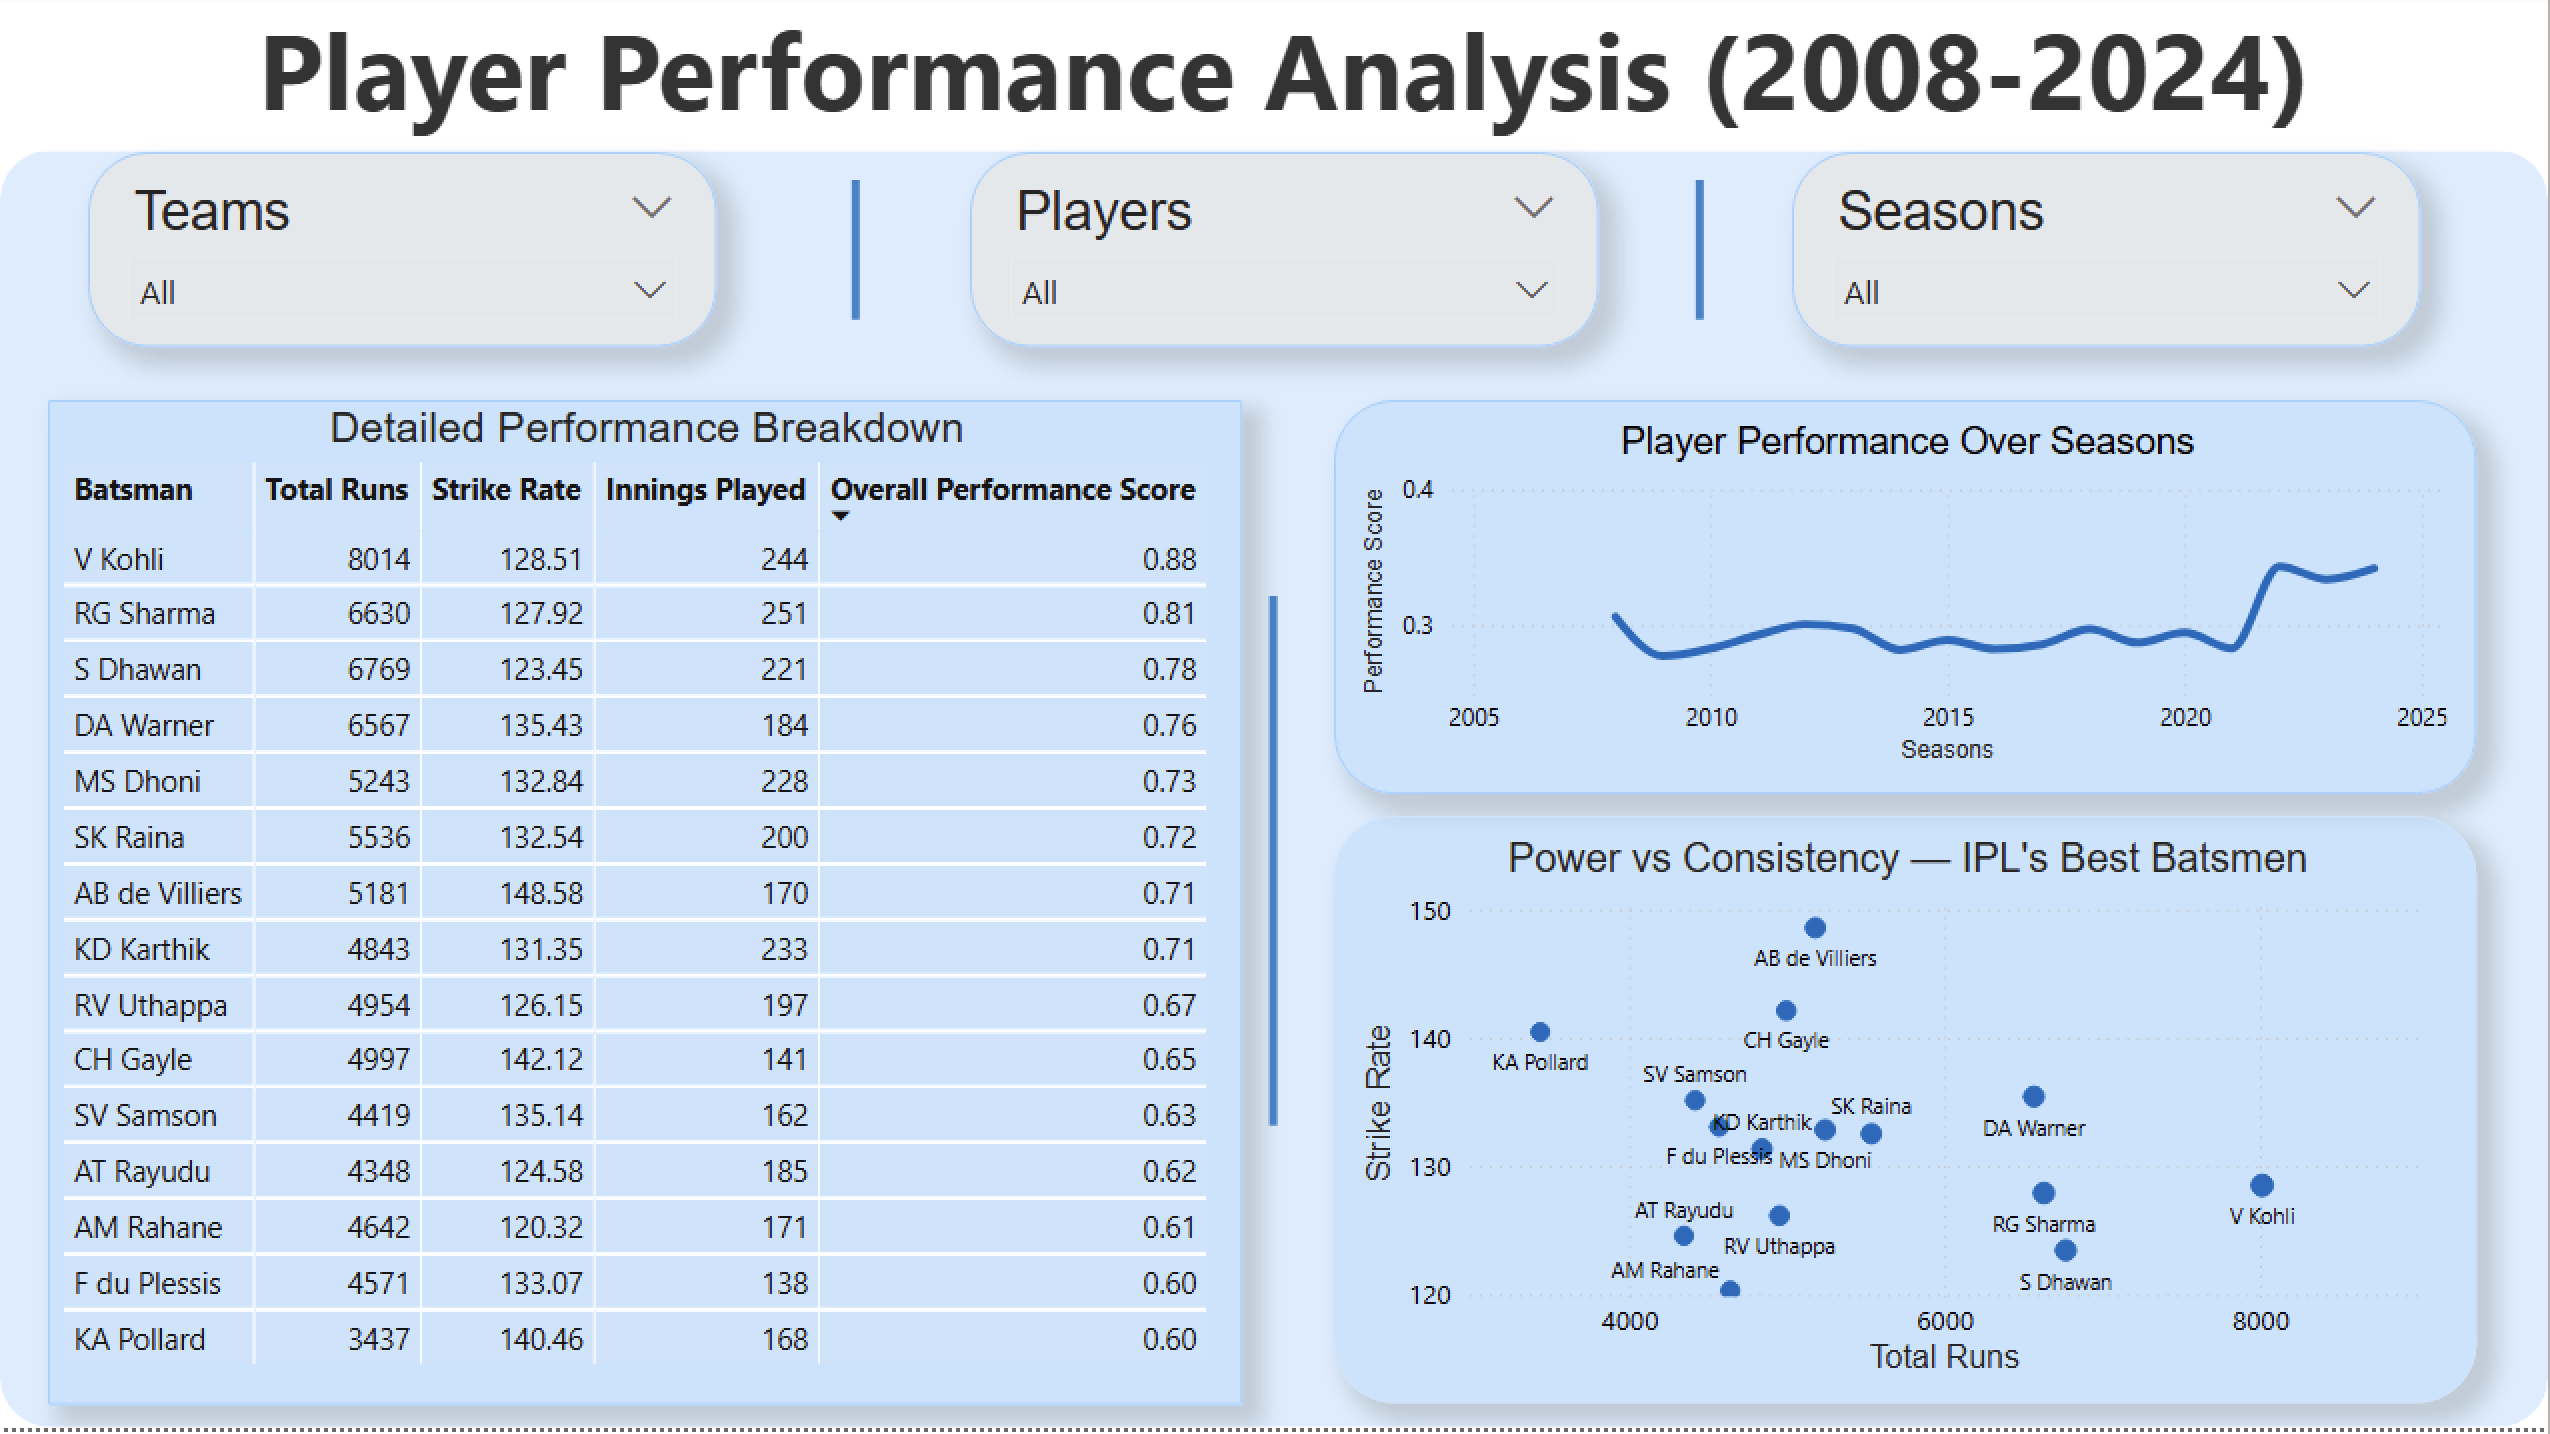

The dashboard page shown, as its layout file describes it:
{"tool":"powerbi","page":{"name":"Performance Analysis","canvas":[1280,720],"ordinal":2},"visuals":[{"type":"shape","box":[0,78.5,1280,641.5],"z":0},{"type":"textbox","box":[0,0,1280.1,79.5],"z":1000},{"type":"tableEx","title":"Detailed Performance Breakdown","fields":{"Values":["batting_stats.batter","Sum(batting_stats_improved.Total_runs)","batting_stats_improved.Strike Rate","Sum(batting_stats_improved.Innings_played)","Avg(batting_stats.performance_score)"]},"box":[24.1,204,599.8,505.4],"z":2000},{"type":"slicer","fields":{"Values":["deliveries_cleaned.batting_team"]},"box":[44.3,79.5,316.2,97.6],"z":3000},{"type":"slicer","fields":{"Values":["deliveries_cleaned.batter"]},"box":[486.9,79.5,316.2,97.6],"z":4000},{"type":"slicer","fields":{"Values":["bridge table.season"]},"box":[899.8,79.5,316.2,97.6],"z":5000},{"type":"lineChart","title":"Player Performance Over Seasons","fields":{"Category":["batting_stats_improved.season"],"Y":["Avg(batting_stats_improved.performance_score)"]},"box":[670.5,203.5,574.4,198.4],"z":6000},{"type":"scatterChart","title":"Power vs Consistency — IPL''s Best Batsmen","fields":{"Category":["batting_stats.batter"],"Y":["batting_stats_improved.Strike Rate"],"X":["Sum(batting_stats_improved.Total_runs)"],"Size":["Sum(batting_stats.performance_score)"]},"box":[670.5,413.2,574.4,295.5],"z":7000},{"type":"shape","box":[423.7,93,11.7,70.5],"z":8000},{"type":"shape","box":[848.3,93,11.7,70.5],"z":9000},{"type":"shape","box":[632.4,302.6,15.4,266.5],"z":10000}]}

Visuals, with their boxes in screenshot pixels (x1, y1, x2, y2), scaled from the page's 1280x720 canvas onto the 2550x1434 screenshot:
shape: 0 156 2549 1433
textbox: 0 0 2549 158
"Detailed Performance Breakdown" tableEx: 48 406 1243 1413
slicer - deliveries_cleaned.batting_team: 88 158 718 353
slicer - deliveries_cleaned.batter: 970 158 1600 353
slicer - bridge table.season: 1793 158 2422 353
"Player Performance Over Seasons" lineChart: 1336 405 2480 800
"Power vs Consistency — IPL''s Best Batsmen" scatterChart: 1336 823 2480 1411
shape: 844 185 867 326
shape: 1690 185 1713 326
shape: 1260 603 1291 1133
